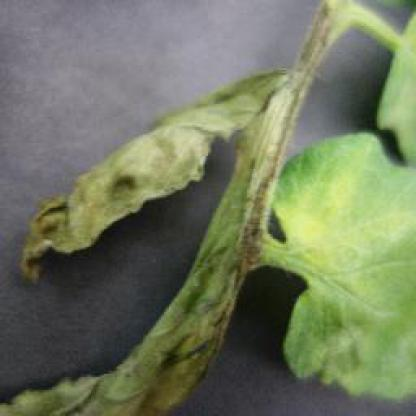bad leaf: (278, 179, 401, 381), (224, 82, 280, 280), (158, 83, 275, 156), (168, 255, 234, 371), (20, 187, 124, 247), (35, 368, 195, 406), (104, 144, 184, 192)
